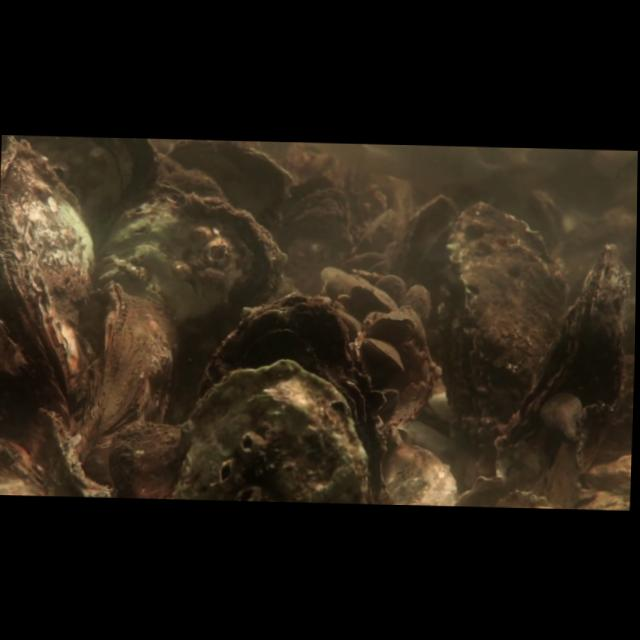Oyster-Closed: (442, 198, 573, 442), (167, 355, 368, 501), (1, 138, 100, 413), (102, 189, 283, 319), (517, 242, 632, 425), (191, 285, 365, 392), (78, 281, 181, 455), (345, 279, 401, 318), (361, 334, 409, 375), (365, 311, 417, 342)
Oyster-Indeterminate: (5, 135, 159, 233), (163, 142, 298, 211)
Oyster-Open: (283, 172, 352, 241)
